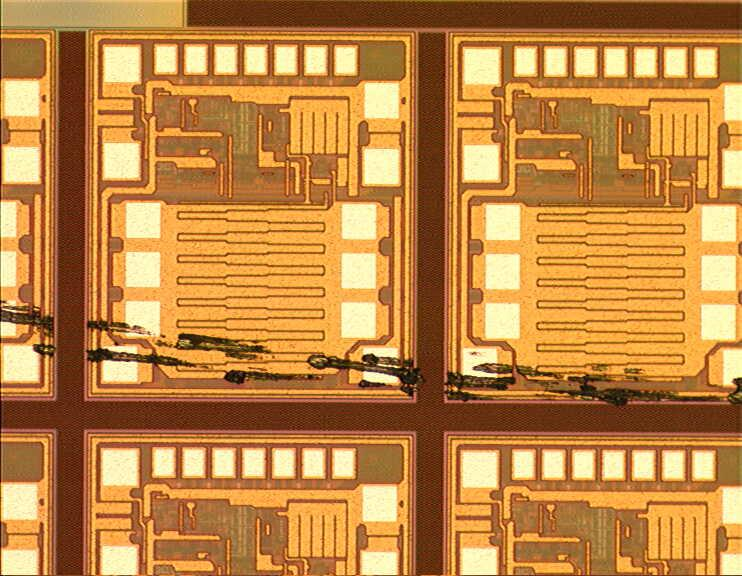SCRATCH: (1, 302, 742, 413)
